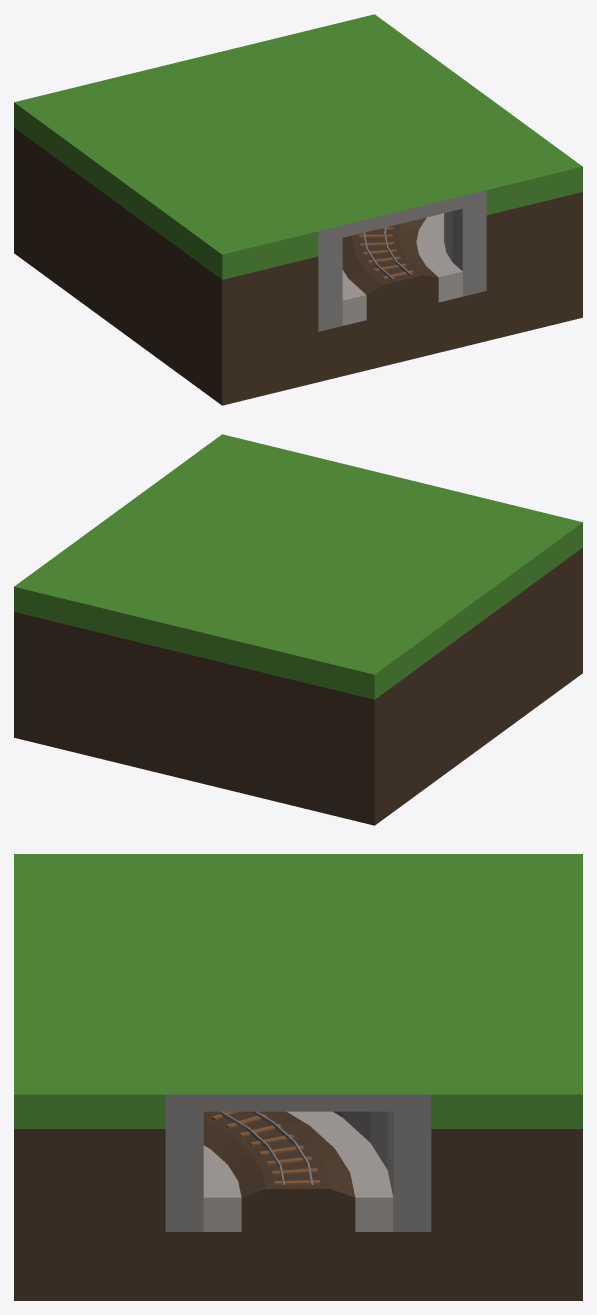
The model's file is tiles_tile-rail-tunnel-curve.fbx.
3 renders of one model, top to bottom at view 1: azimuth 30°, elevation 25°; view 2: azimuth 150°, elevation 25°; view 3: azimuth 270°, elevation 25°, orthographic. The views are drawn at different scales.
Parts seen in each view (by area): view 1: tiles_tile_rail_tunnel_curve; view 2: tiles_tile_rail_tunnel_curve; view 3: tiles_tile_rail_tunnel_curve.
Part boxes in pixels (x1,y1,x2,y2): tiles_tile_rail_tunnel_curve: (14,14,582,405); tiles_tile_rail_tunnel_curve: (14,434,582,825); tiles_tile_rail_tunnel_curve: (14,854,582,1300).
Size of the model in its own units: 200 by 79.97 by 200.
